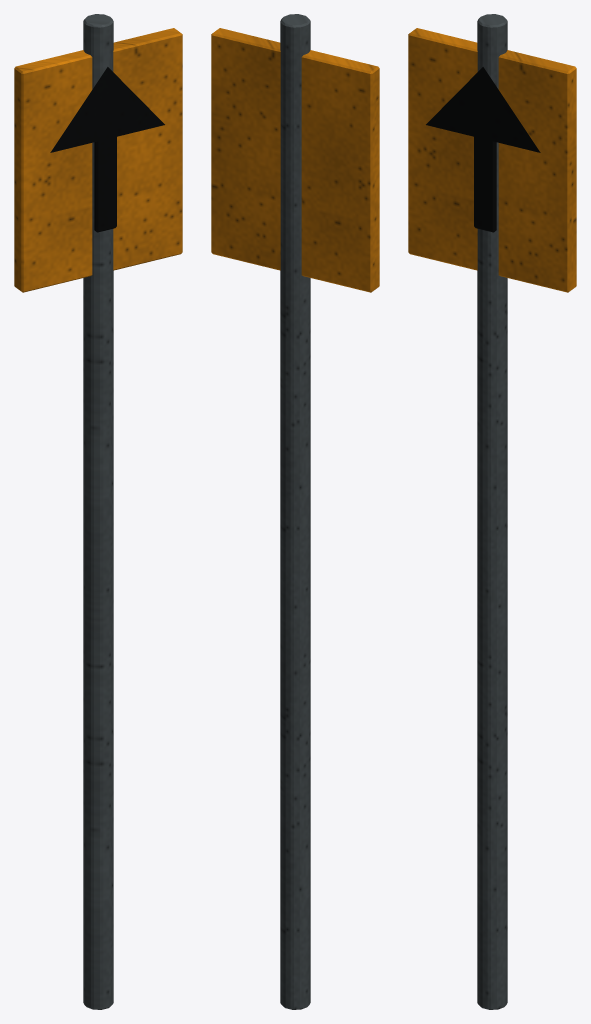
Rendered from PROP-2EFBB56C7E2A_lod1.glb.
The picture shows the model from 3 angles, left to right: view 1: azimuth 30°, elevation 25°; view 2: azimuth 150°, elevation 25°; view 3: azimuth 330°, elevation 25°; orthographic projection.
Visible parts, largest first — view 1: sign_plate.002, sign_post.002, direction_symbol.002, symbol_stem.002; view 2: sign_plate.002, sign_post.002; view 3: sign_plate.002, sign_post.002, direction_symbol.002, symbol_stem.002.
Part boxes in pixels (x1,y1,x2,y2): sign_plate.002: [14, 28, 182, 292]; sign_post.002: [83, 14, 113, 1009]; direction_symbol.002: [50, 67, 164, 152]; symbol_stem.002: [94, 137, 116, 232]; sign_plate.002: [211, 28, 379, 292]; sign_post.002: [280, 14, 310, 1009]; sign_plate.002: [408, 28, 576, 292]; sign_post.002: [477, 14, 507, 1009]; direction_symbol.002: [426, 67, 540, 152]; symbol_stem.002: [474, 137, 496, 232].
Bounding box in the file's own units: 0.42 × 2.45 × 0.0753.
3 materials, 3 textured.
